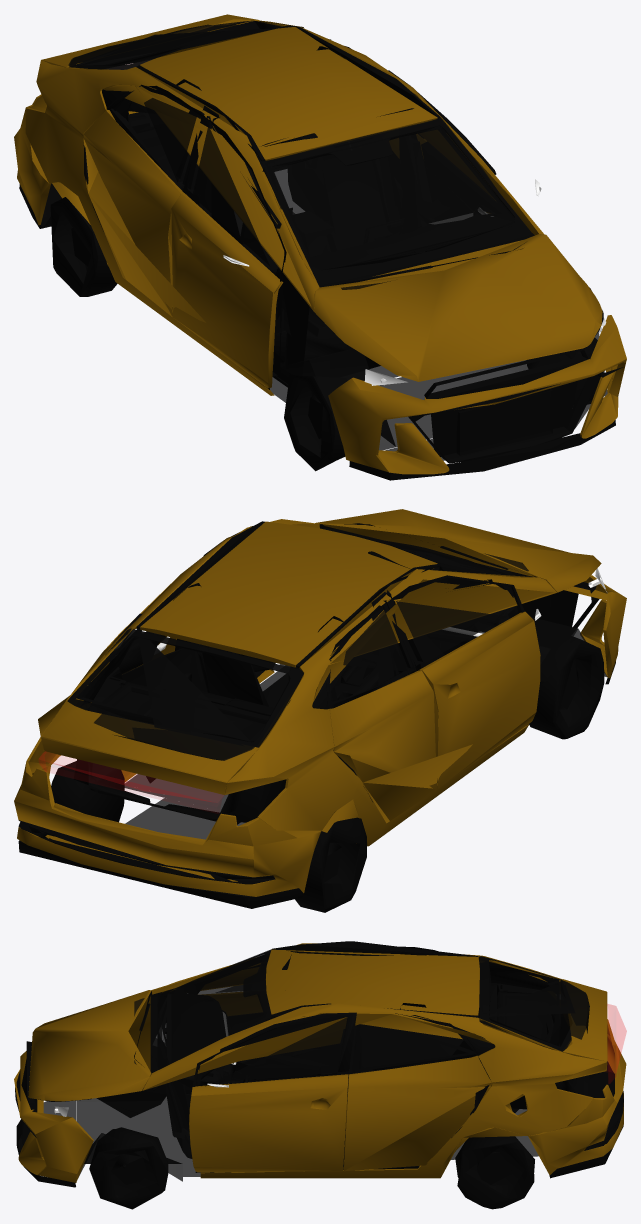
3 views of the same model, one above another, from view 1: azimuth 30°, elevation 25°; view 2: azimuth 150°, elevation 25°; view 3: azimuth 270°, elevation 25° (orthographic). The views are drawn at different scales.
Parts seen in each view (by area): view 1: Object_92, Object_18, Object_15, Object_16, Object_19, Object_21, Object_93, Object_9, Object_12, Object_94, Object_134, Object_85 (+20 smaller); view 2: Object_15, Object_16, Object_20, Object_19, Object_93, Object_9, Object_12, Object_18, Object_92, Object_11, Object_94, Object_85 (+19 smaller); view 3: Object_16, Object_10, Object_13, Object_92, Object_18, Object_9, Object_93, Object_94, Object_20, Object_21, Object_85, Object_84 (+21 smaller).
Boxes of the visible parts, x1,y1,x2,y2 form: Object_92: (44,98,592,460); Object_18: (314,234,602,381); Object_15: (25,60,319,395); Object_16: (140,27,490,213); Object_19: (168,193,283,388); Object_21: (328,315,626,474); Object_93: (68,20,532,286); Object_9: (50,161,603,471); Object_12: (83,110,183,317); Object_94: (43,210,607,455); Object_134: (102,86,623,480); Object_85: (83,46,424,389); Object_15: (224,569,556,846); Object_16: (140,521,437,667); Object_20: (14,761,321,896); Object_19: (419,611,540,789); Object_93: (67,530,508,760); Object_9: (51,635,604,912); Object_12: (327,670,438,820); Object_18: (315,509,601,592); Object_92: (125,523,531,839); Object_11: (41,701,259,794); Object_94: (124,595,607,811); Object_85: (149,575,531,801); Object_16: (189,949,479,1172); Object_10: (142,1003,606,1178); Object_13: (343,1055,491,1171); Object_92: (43,949,538,1159); Object_18: (28,990,151,1101); Object_9: (89,1084,534,1209); Object_93: (157,950,589,1069); Object_94: (76,1039,200,1181); Object_20: (528,1019,626,1175); Object_21: (14,1051,93,1182); Object_85: (190,946,490,1172); Object_84: (172,989,225,1082).
Bounding box in the file's own units: 0.5687 × 0.422 × 1.25.
